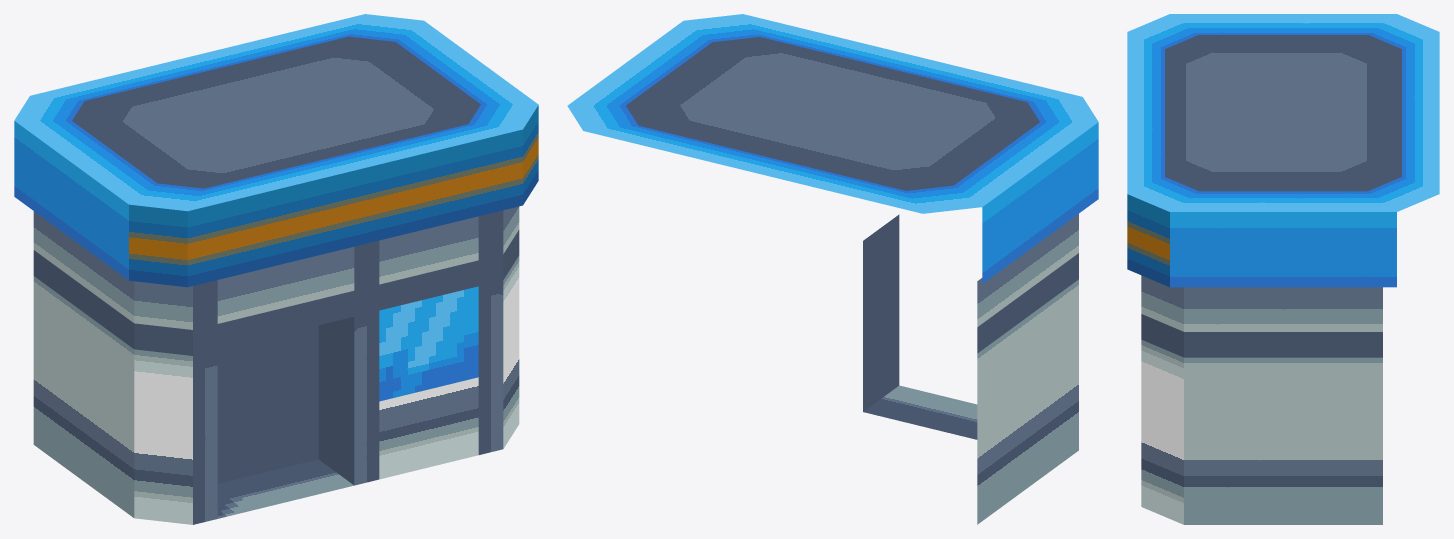
The model's file is poke-mart-compact.glb.
3 views of the same model, side by side, from view 1: azimuth 30°, elevation 25°; view 2: azimuth 150°, elevation 25°; view 3: azimuth 270°, elevation 25° (orthographic). The views are drawn at different scales.
Parts seen in each view (by area): view 1: HG Mart · compact plot; view 2: HG Mart · compact plot; view 3: HG Mart · compact plot.
Part boxes in pixels (bbox=[...]): HG Mart · compact plot: bbox=[14, 14, 538, 524]; HG Mart · compact plot: bbox=[567, 14, 1098, 524]; HG Mart · compact plot: bbox=[1127, 14, 1439, 524].
Bounding box in the file's own units: 66 × 49.55 × 44.
2 materials, 2 textured.
